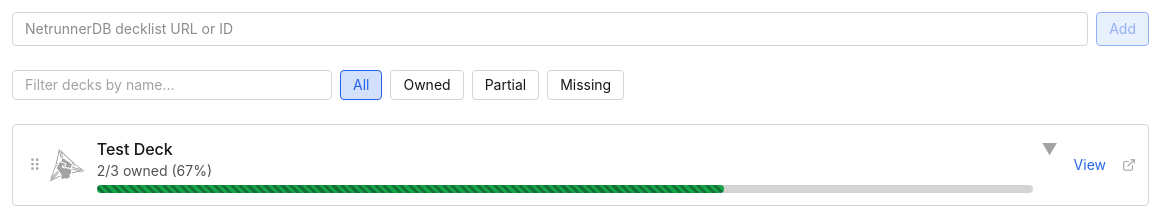
Test: DeckSection › re-importing an already-saved deck id replaces it rather than duplicating it
This screenshot has width=1164, height=223.
Type "1" into the field with placeholder "NetrunnerDB decklist URL or ID". click: coordinates (550, 29)
box: [12, 12, 1088, 46]
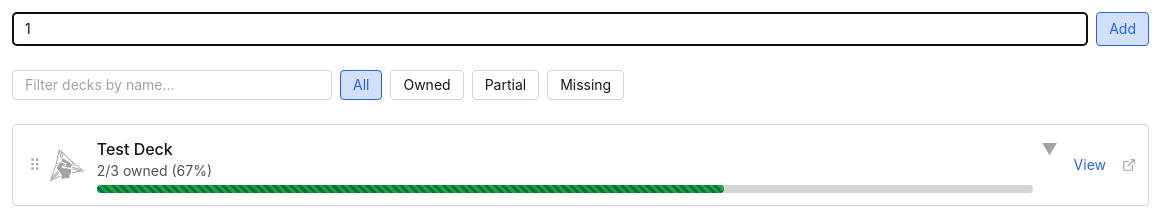
Click the button "Add". click: coordinates (1123, 29)
box: [1096, 12, 1149, 46]
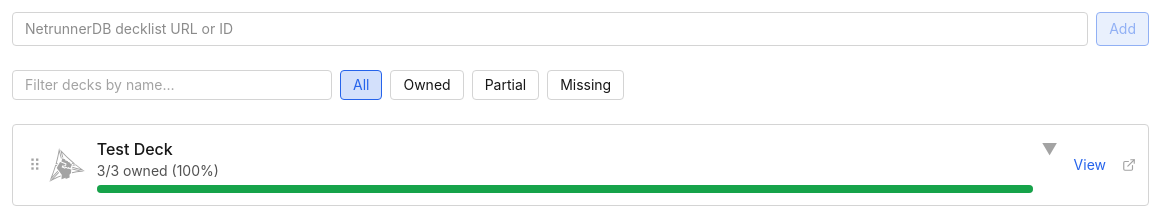
Expected: the text "Test Deck" is shown once, [97, 139, 173, 159]
Expected: the text "3/3 owned (100%)" is shown, [97, 162, 219, 179]
